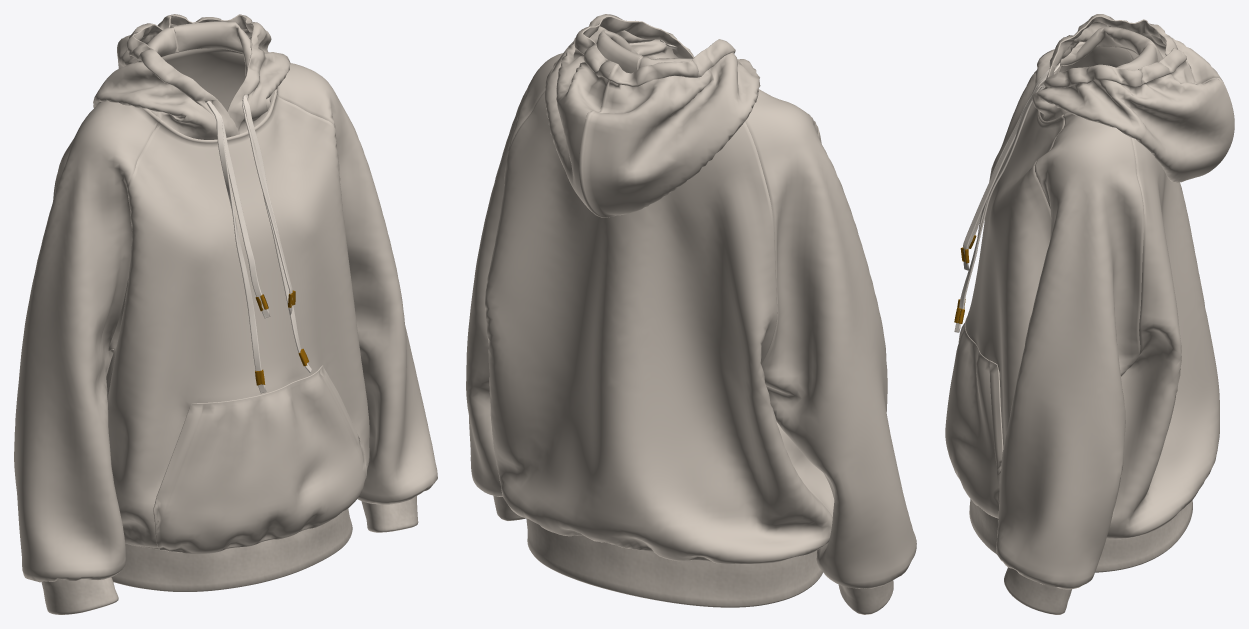
The model's file is knitted_hooded_short_sweaterhoodie.glb.
3 renders of one model, left to right at view 1: azimuth 30°, elevation 25°; view 2: azimuth 150°, elevation 25°; view 3: azimuth 270°, elevation 25°, orthographic. The views are drawn at different scales.
Visible parts, largest first — view 1: Object_7, Object_3, Object_5, Object_4, Object_6, Object_8, Object_9, Object_2; view 2: Object_2, Object_3, Object_6, Object_8, Object_9, Object_4, Object_7, Object_5; view 3: Object_4, Object_2, Object_7, Object_9, Object_5, Object_6, Object_8, Object_3.
Boxes of the visible parts, <box> form: Object_7: <box>106,91,369,549</box>; Object_3: <box>14,101,160,582</box>; Object_5: <box>41,17,366,614</box>; Object_4: <box>243,63,437,504</box>; Object_6: <box>93,15,418,532</box>; Object_8: <box>111,15,352,591</box>; Object_9: <box>169,14,290,135</box>; Object_2: <box>53,48,245,375</box>; Object_2: <box>485,90,832,564</box>; Object_3: <box>745,89,916,588</box>; Object_6: <box>493,39,760,520</box>; Object_8: <box>526,16,823,607</box>; Object_9: <box>544,14,694,211</box>; Object_4: <box>466,40,690,496</box>; Object_7: <box>776,125,834,515</box>; Object_5: <box>624,43,893,614</box>; Object_4: <box>954,84,1144,589</box>; Object_2: <box>1106,46,1219,539</box>; Object_7: <box>965,65,1064,447</box>; Object_9: <box>1032,43,1234,182</box>; Object_5: <box>945,16,1171,518</box>; Object_6: <box>963,14,1234,614</box>; Object_8: <box>954,56,1192,572</box>; Object_3: <box>1034,46,1132,73</box>.
Bounding box in the file's own units: 589 × 724 × 380.
1 material, 1 textured.
